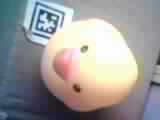duck: (30, 6, 132, 113)
